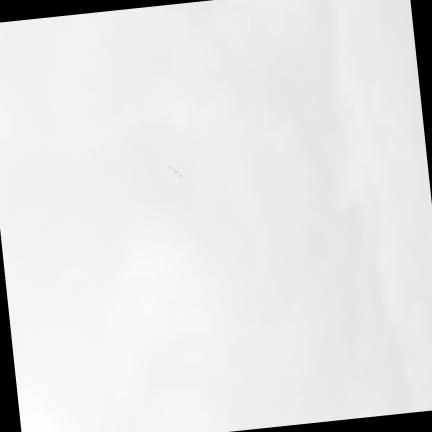Shahed: (167, 164, 183, 176)
